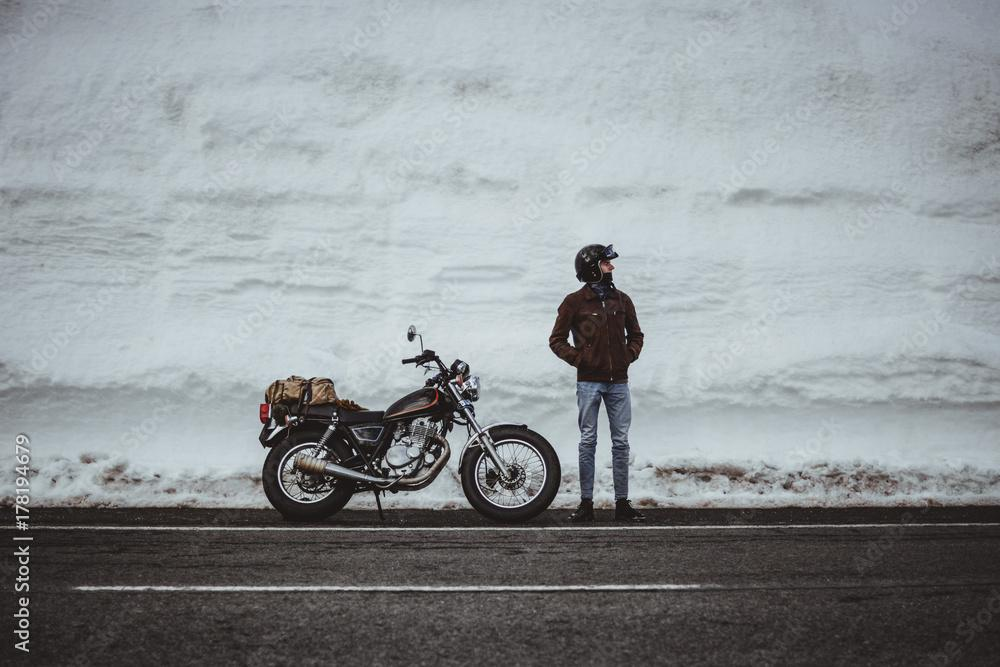helmet: (574, 243, 620, 284)
